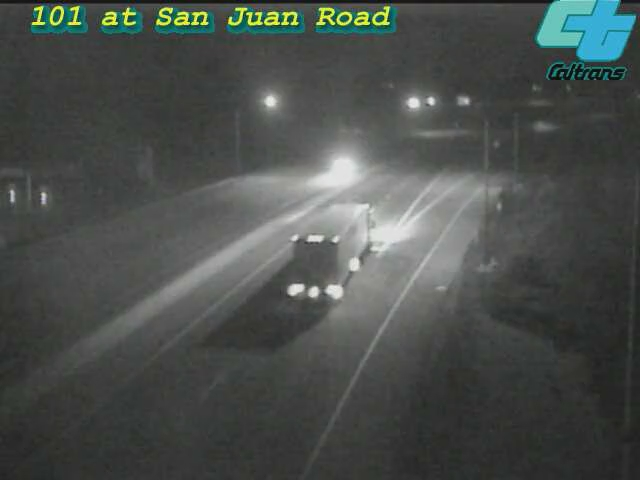vehicle: (300, 130, 380, 210), (294, 227, 374, 307), (513, 102, 563, 152)
